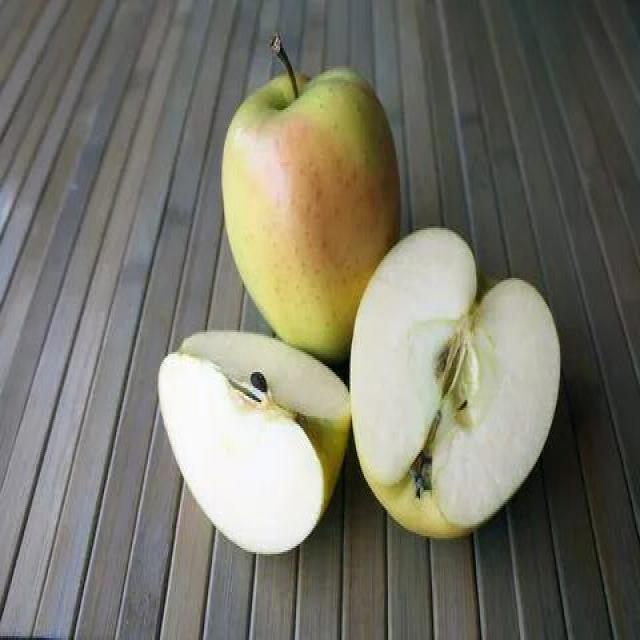Fresh Apple: (215, 72, 387, 353)
Rotten: (362, 238, 570, 537), (157, 327, 355, 558)
